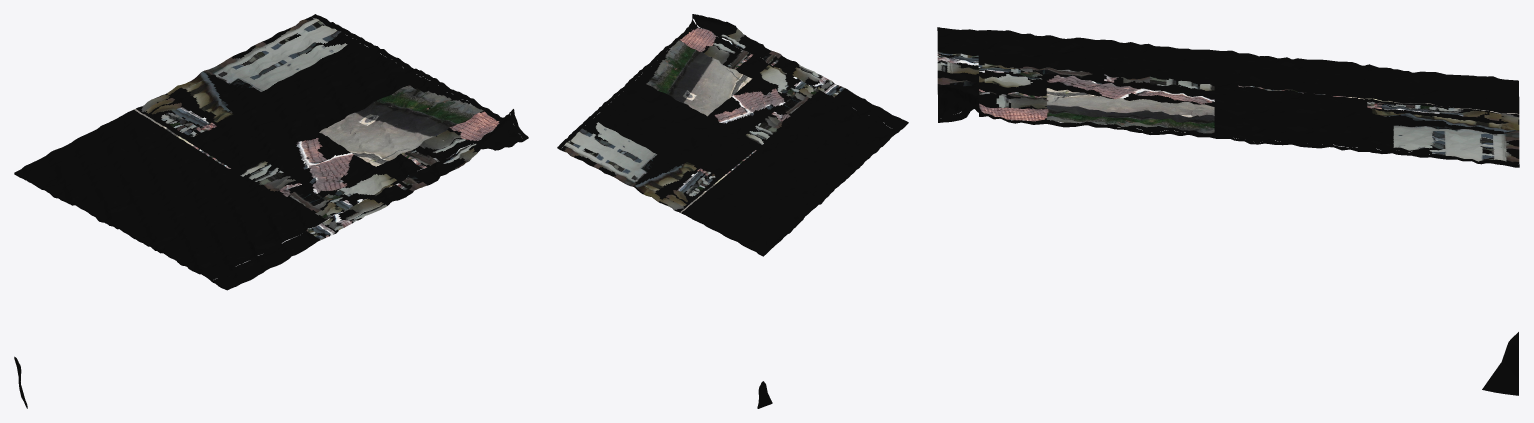
3 renders of one model, left to right at view 1: azimuth 30°, elevation 25°; view 2: azimuth 150°, elevation 25°; view 3: azimuth 270°, elevation 25°, orthographic. The views are drawn at different scales.
Parts seen in each view (by area): view 1: node_186; view 2: node_186; view 3: node_186.
Boxes of the visible parts, left/top/right/bottom form: node_186: left=14, top=14, right=528, bottom=408; node_186: left=557, top=14, right=908, bottom=408; node_186: left=937, top=27, right=1519, bottom=395.
Size of the model in its own units: 4.5 by 5.15 by 5.5.
Materials: 1 (1 with a texture image).
